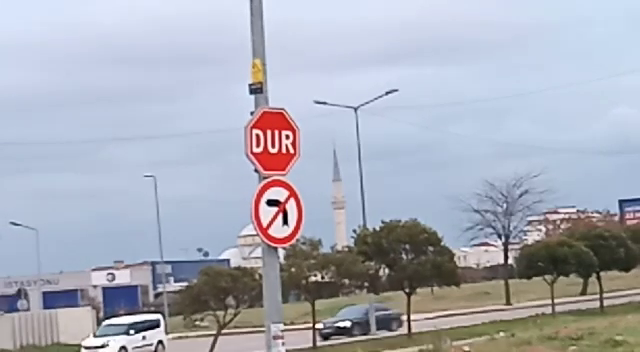no_left: (250, 174, 305, 252)
stop: (242, 105, 303, 178)
